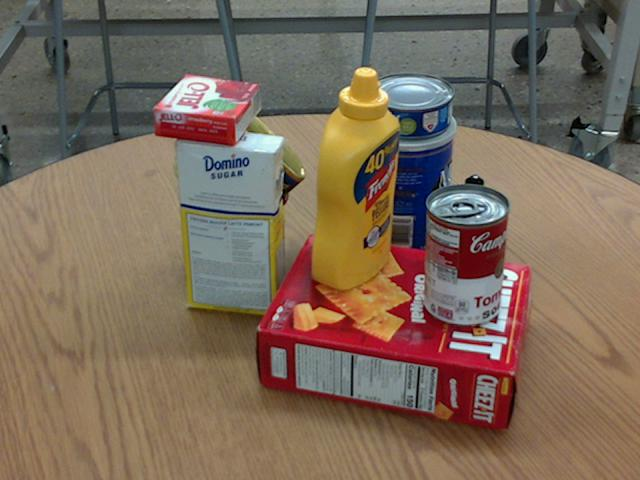cracker_box: (259, 233, 531, 429)
gelatin_box: (153, 74, 261, 144)
large_marker: (456, 174, 482, 286)
master_chef_can: (352, 100, 458, 264)
mug: (194, 169, 287, 277)
mustard_bottle: (311, 66, 399, 290)
potted_meat_can: (174, 104, 306, 233)
sugar_box: (174, 126, 284, 317)
tomato_soup_can: (423, 182, 510, 326)
tuna_fish_can: (368, 73, 454, 137)
